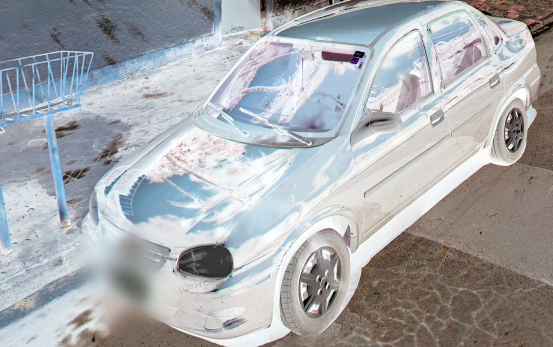car: (82, 1, 542, 347)
